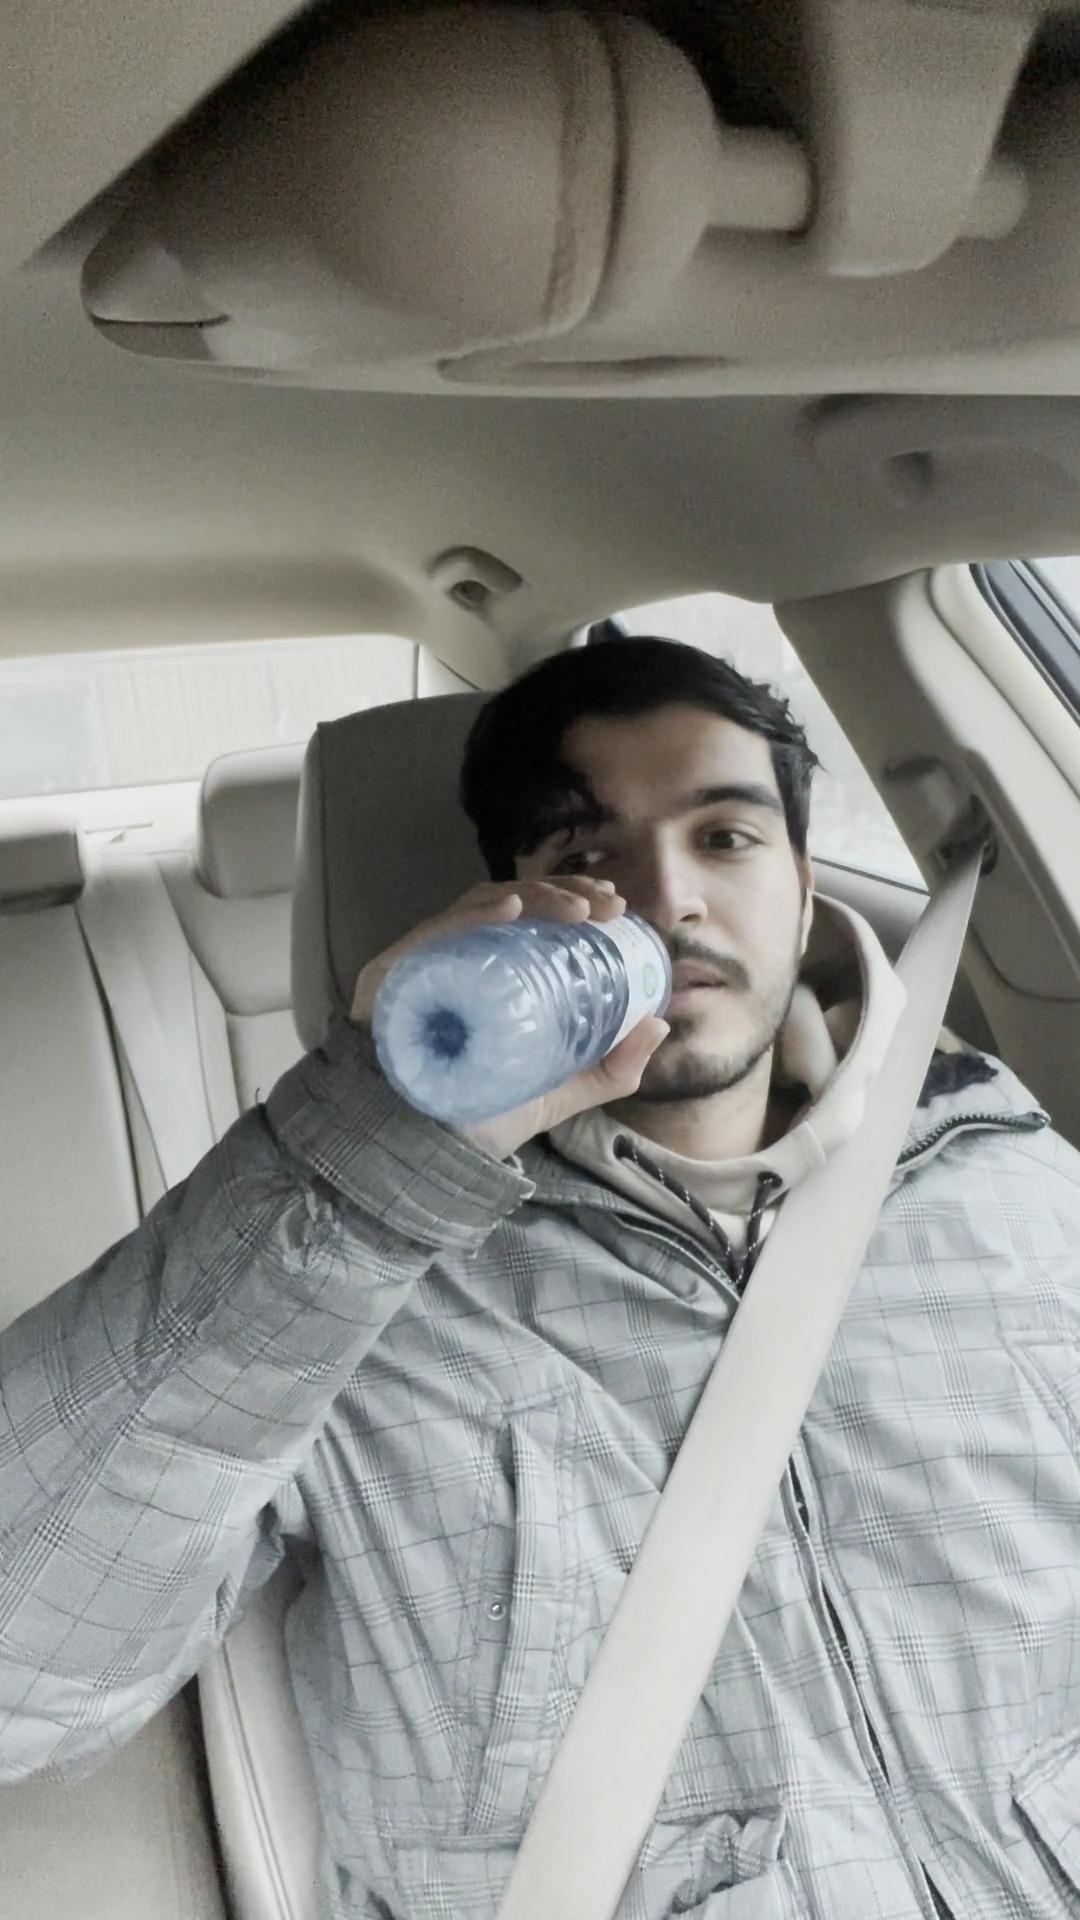drinking: (330, 890, 700, 1130)
seatbelt: (455, 1125, 1080, 1920)
